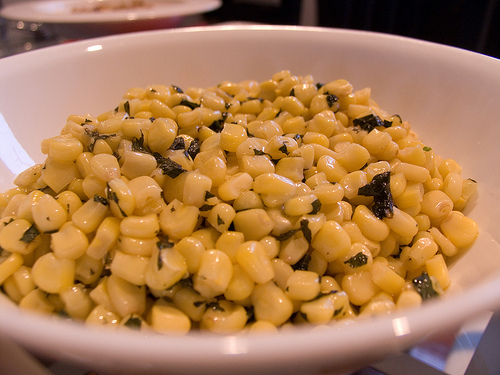corn: (0, 65, 482, 338)
